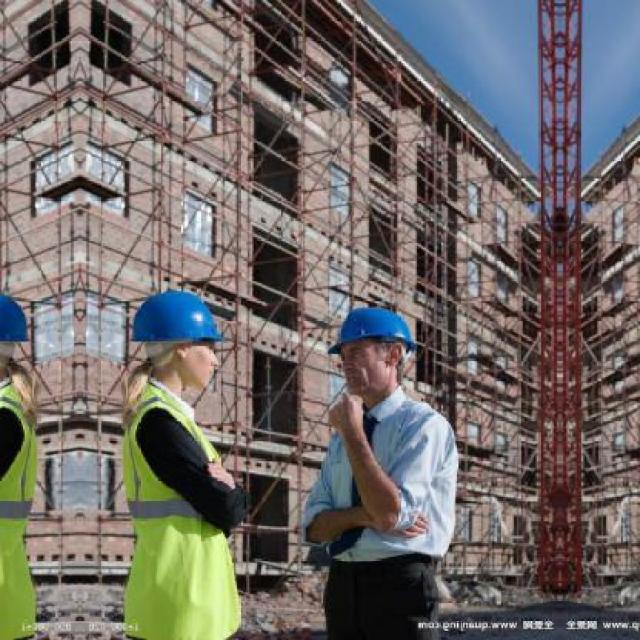Reflective-Jacket: (103, 380, 254, 640), (0, 372, 52, 547)
Safety-Helmet: (110, 278, 236, 369), (317, 297, 431, 368), (0, 285, 45, 363)
